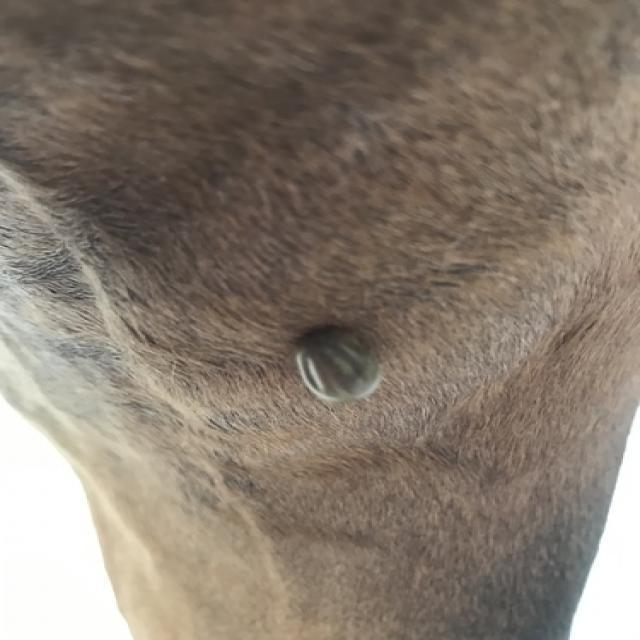Ixodes Ricinus-F-Fed: (288, 324, 384, 406)
